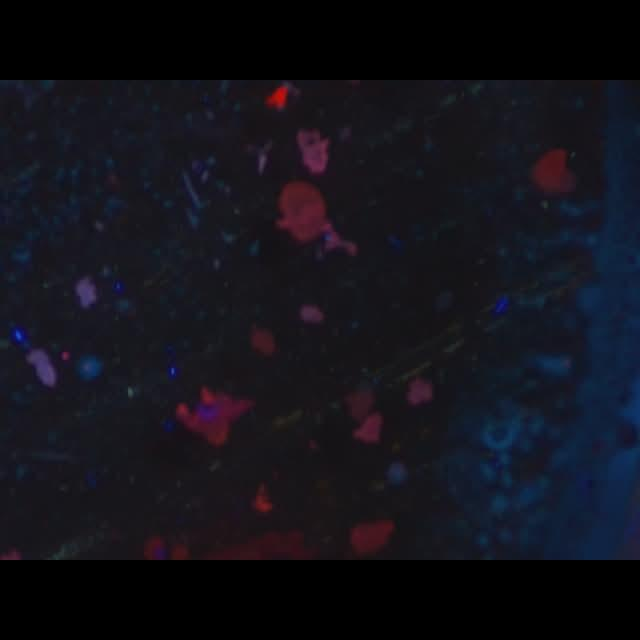Fragment: (276, 180, 358, 256), (175, 385, 253, 447)
